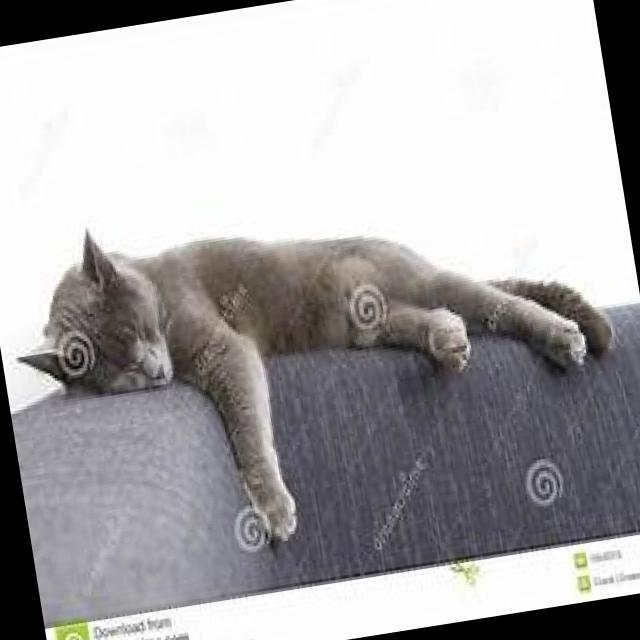cat: (0, 145, 638, 578)
